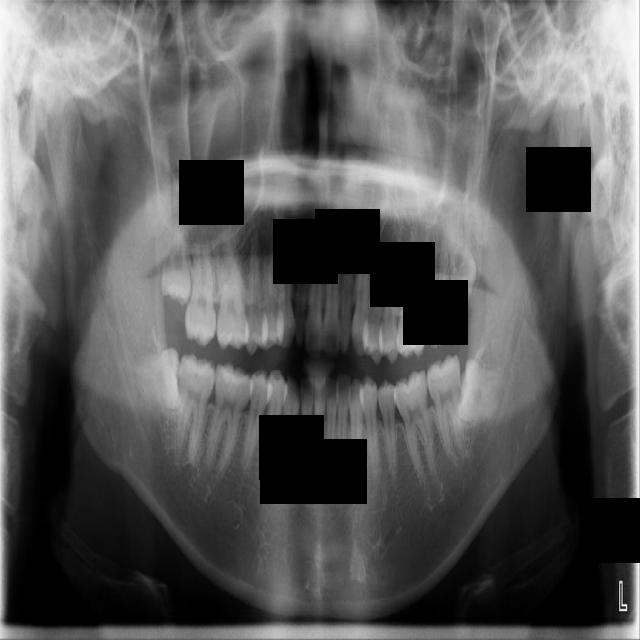3M ESPE Implant: (156, 216, 194, 308)
73: (566, 552, 580, 562)
BioHorizons Implant: (423, 235, 458, 348)
BioLife Implant: (445, 199, 479, 307)
Biomet 3i Implant: (455, 356, 505, 426)
Blue Sky Bio Implant: (423, 354, 474, 458)
Caries: (185, 245, 217, 349)
Implant: (171, 353, 217, 461)
Keystone Dental Implant: (137, 345, 182, 412)
